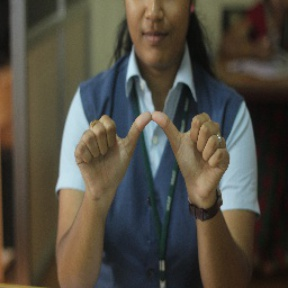A: (86, 107, 221, 198)
